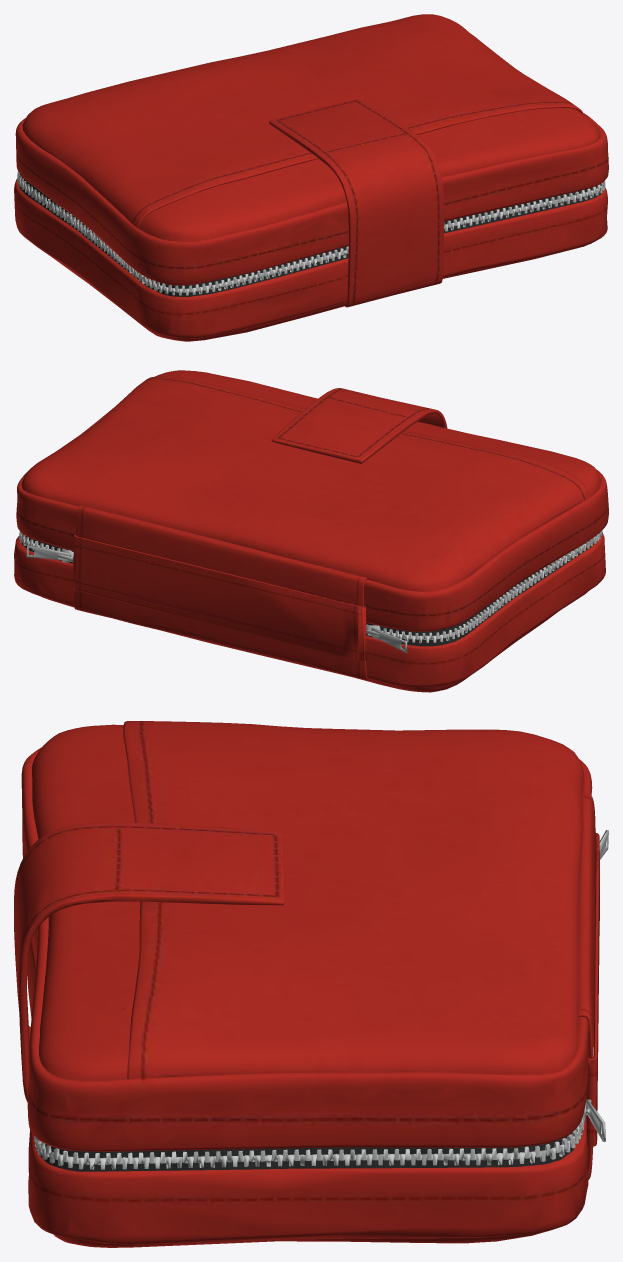
The picture shows the model from 3 angles, top to bottom: view 1: azimuth 30°, elevation 25°; view 2: azimuth 150°, elevation 25°; view 3: azimuth 270°, elevation 25°; orthographic projection. The views are drawn at different scales.
Visible parts, largest first — view 1: Top_Purse.001, Bottom_Purse.001; view 2: Top_Purse.001, Bottom_Purse.001; view 3: Top_Purse.001, Bottom_Purse.001.
Part boxes in pixels (x1,y1,x2,y2): Top_Purse.001: (15,14,608,307); Bottom_Purse.001: (14,171,607,341); Top_Purse.001: (16,370,608,680); Bottom_Purse.001: (14,530,605,692); Top_Purse.001: (14,721,599,1179); Bottom_Purse.001: (27,830,608,1247).
Bounding box in the file's own units: 0.0673 × 0.0205 × 0.0471.
Materials: 2 (2 with a texture image).
